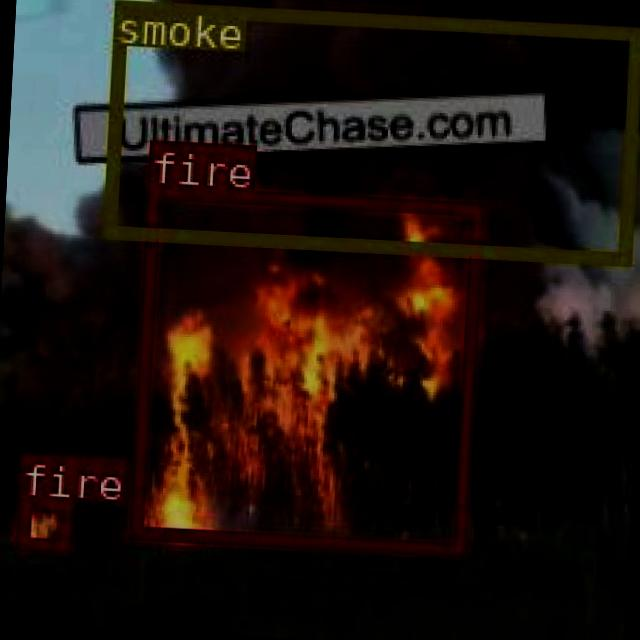fire: (128, 184, 481, 554), (14, 496, 70, 549)
smoke: (100, 0, 640, 264)
